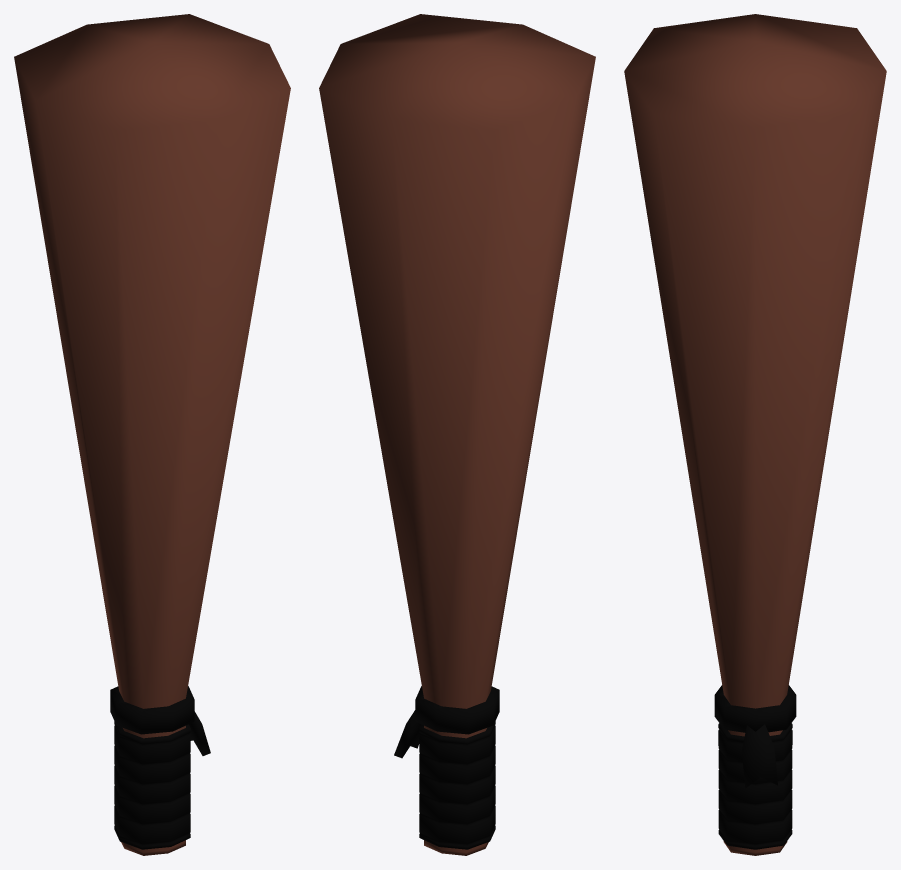
The model's file is EnemyClubMelee.fbx.
3 views of the same model, side by side, from view 1: azimuth 30°, elevation 25°; view 2: azimuth 150°, elevation 25°; view 3: azimuth 270°, elevation 25° (orthographic).
Visible parts, largest first — view 1: ClubMelee.001; view 2: ClubMelee.001; view 3: ClubMelee.001.
Part boxes in pixels (x1,y1,x2,y2): ClubMelee.001: [14, 14, 290, 855]; ClubMelee.001: [319, 14, 595, 855]; ClubMelee.001: [624, 14, 886, 855].
Bounding box in the file's own units: 35.02 × 114 × 34.02.
